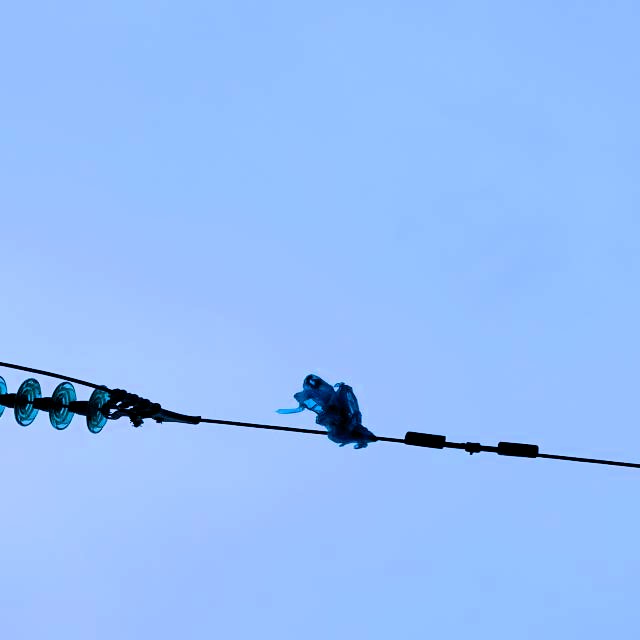wire foreign body: (276, 365, 391, 464)
